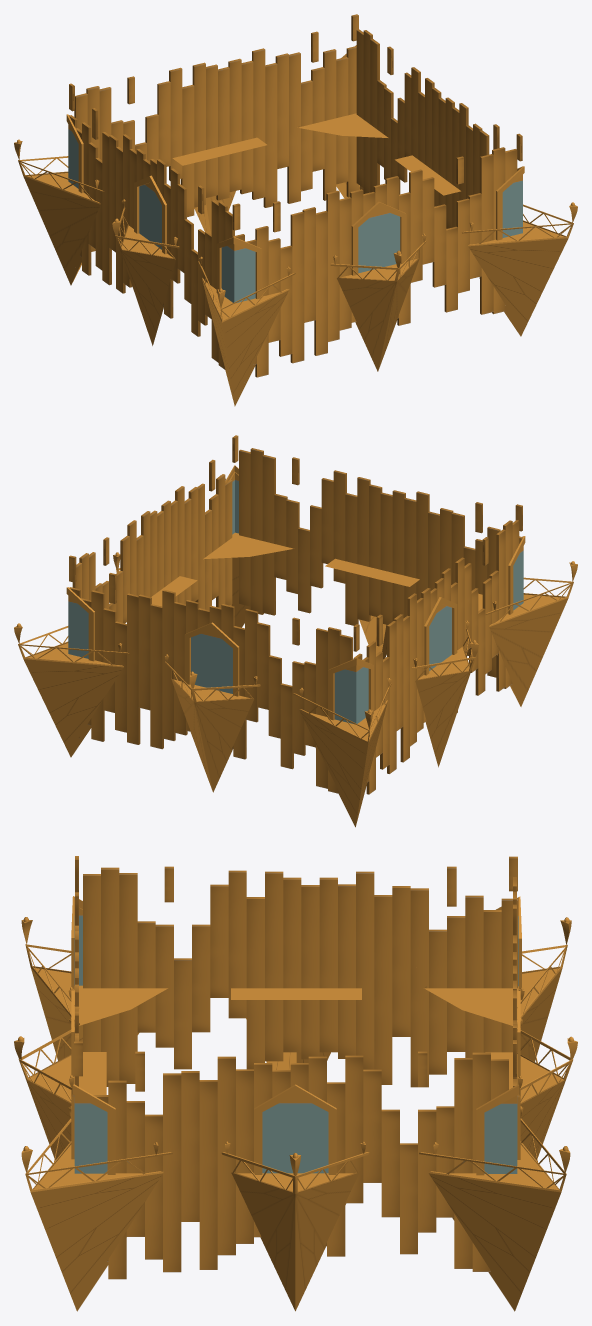
File: ModularBuilding_Two.fbx
3 views of the same model, one above another, from view 1: azimuth 30°, elevation 25°; view 2: azimuth 150°, elevation 25°; view 3: azimuth 270°, elevation 25° (orthographic). The views are drawn at different scales.
Visible parts, largest first — view 1: ModularBuilding_Two; view 2: ModularBuilding_Two; view 3: ModularBuilding_Two.
Part boxes in pixels (bbox=[...]): ModularBuilding_Two: bbox=[14, 14, 577, 406]; ModularBuilding_Two: bbox=[14, 435, 577, 827]; ModularBuilding_Two: bbox=[14, 856, 577, 1311].
Size of the model in its own units: 2735 by 1438 by 2735.
